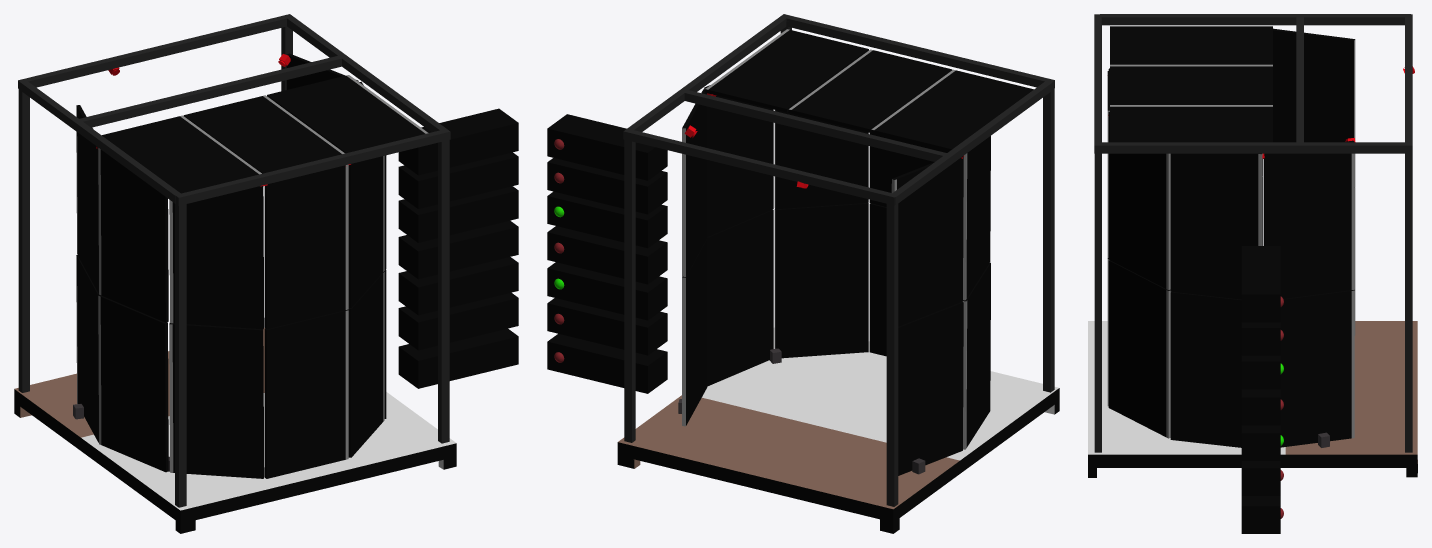
Rendered from jaskyna.fbx.
3 views of the same model, side by side, from view 1: azimuth 30°, elevation 25°; view 2: azimuth 150°, elevation 25°; view 3: azimuth 270°, elevation 25° (orthographic).
Parts seen in each view (by area): view 1: zelezo, priesvitna cast, tv-4, tv-5, tv-11, tv-12, tv-6, tv-13, tv-15, tv-16, tv-17, tv-3 (+12 smaller); view 2: zelezo, podlaha, priesvitna cast, tv-3, tv-2, tv-7, tv-14, tv-15, tv-16, tv-17, tv-9, tv-10 (+13 smaller); view 3: zelezo, tv-9, tv-8, tv-1, tv-2, podlaha, tv-3, tv-14, tv-10, priesvitna cast, tv-16, tv-17 (+9 smaller).
Boxes of the visible parts, left/top/right/bottom form: zelezo: left=18, top=14, right=450, bottom=507; priesvitna cast: left=80, top=392, right=456, bottom=533; tv-4: left=264, top=309, right=348, bottom=478; tv-5: left=169, top=323, right=264, bottom=478; tv-11: left=264, top=164, right=348, bottom=329; tv-12: left=169, top=186, right=264, bottom=329; tv-6: left=98, top=295, right=168, bottom=472; tv-13: left=98, top=148, right=168, bottom=322; tv-15: left=267, top=75, right=428, bottom=153; tv-16: left=183, top=95, right=344, bottom=173; tv-17: left=102, top=115, right=261, bottom=193; tv-3: left=348, top=271, right=384, bottom=457; zelezo: left=623, top=14, right=1054, bottom=506; podlaha: left=617, top=395, right=959, bottom=533; priesvitna cast: left=702, top=327, right=1059, bottom=473; tv-3: left=774, top=203, right=868, bottom=358; tv-2: left=707, top=209, right=773, bottom=386; tv-7: left=898, top=302, right=963, bottom=475; tv-14: left=891, top=156, right=963, bottom=326; tv-15: left=705, top=29, right=868, bottom=112; tv-16: left=788, top=49, right=952, bottom=132; tv-17: left=871, top=69, right=1033, bottom=151; tv-9: left=704, top=85, right=773, bottom=236; tv-10: left=774, top=110, right=868, bottom=209; zelezo: left=1094, top=14, right=1412, bottom=452; tv-9: left=1170, top=153, right=1262, bottom=299; tv-8: left=1263, top=140, right=1354, bottom=298; tv-1: left=1280, top=290, right=1354, bottom=447; tv-2: left=1170, top=291, right=1241, bottom=447; podlaha: left=1285, top=321, right=1417, bottom=477; tv-3: left=1108, top=260, right=1170, bottom=438; tv-14: left=1273, top=28, right=1355, bottom=187; tv-10: left=1108, top=112, right=1170, bottom=289; priesvitna cast: left=1088, top=321, right=1286, bottom=477; tv-16: left=1110, top=66, right=1272, bottom=106; tv-17: left=1110, top=26, right=1272, bottom=66.
Size of the model in its own units: 719 by 554 by 499.
